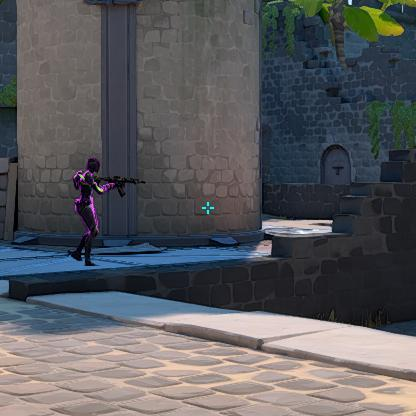enemyBody: (83, 171, 92, 199)
enemyHead: (88, 161, 97, 170)
